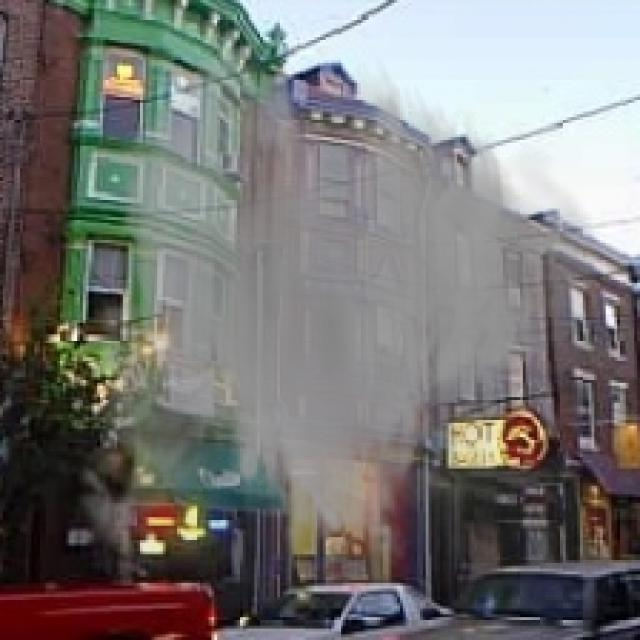smoke: (60, 40, 611, 609)
